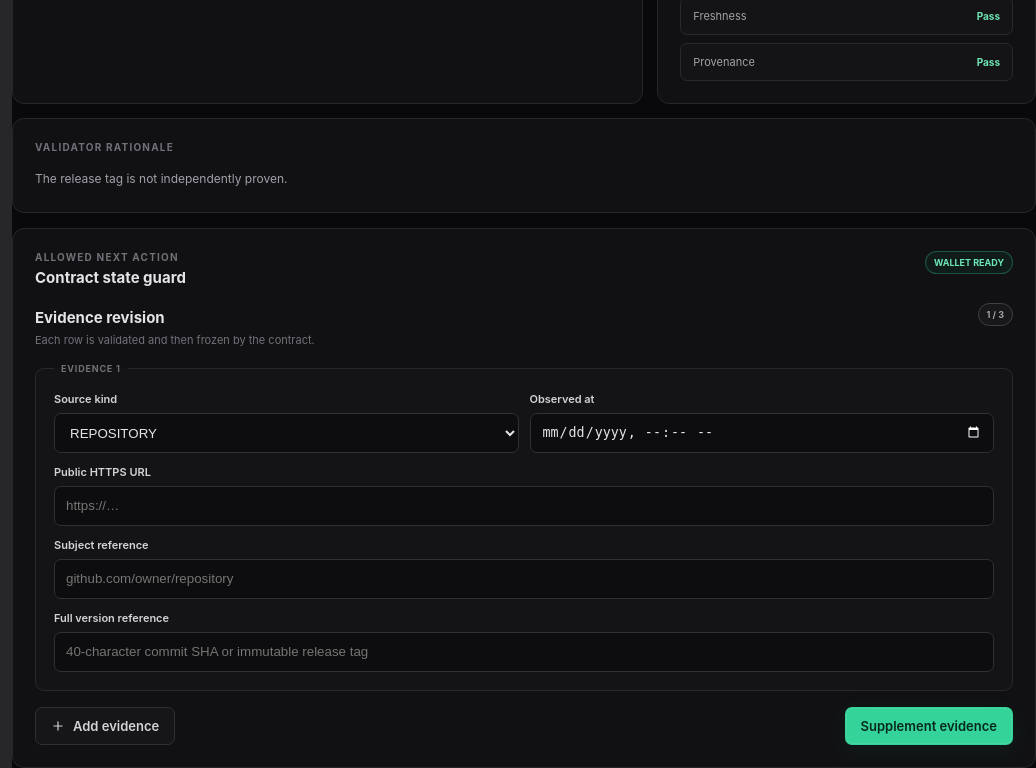
it: SubmissionDetail › routes a confirmed supplement to the new submission digest
(page scrolled)
Select "RELEASE" in the dropdown named "Evidence 1 source kind" at x=286, y=433, box [54,413,518,453]
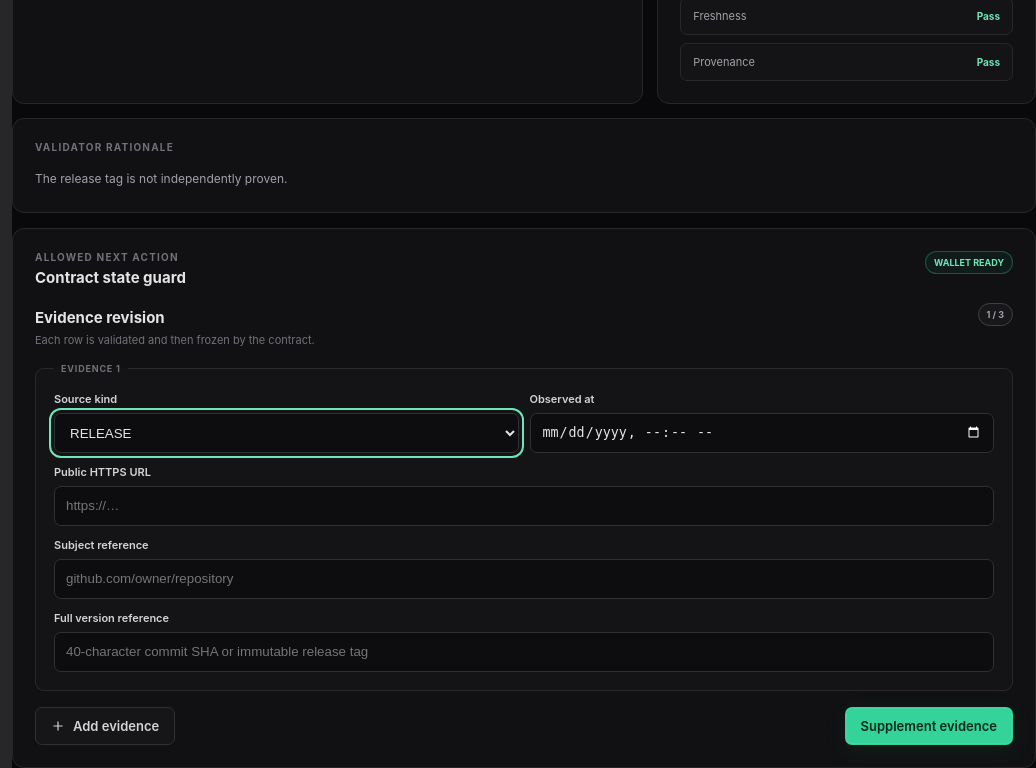
Type "https://github.com/example/compiler/releases/tag/v2" into the field named "Evidence 1 URL" at x=524, y=506, box [54,486,994,526]
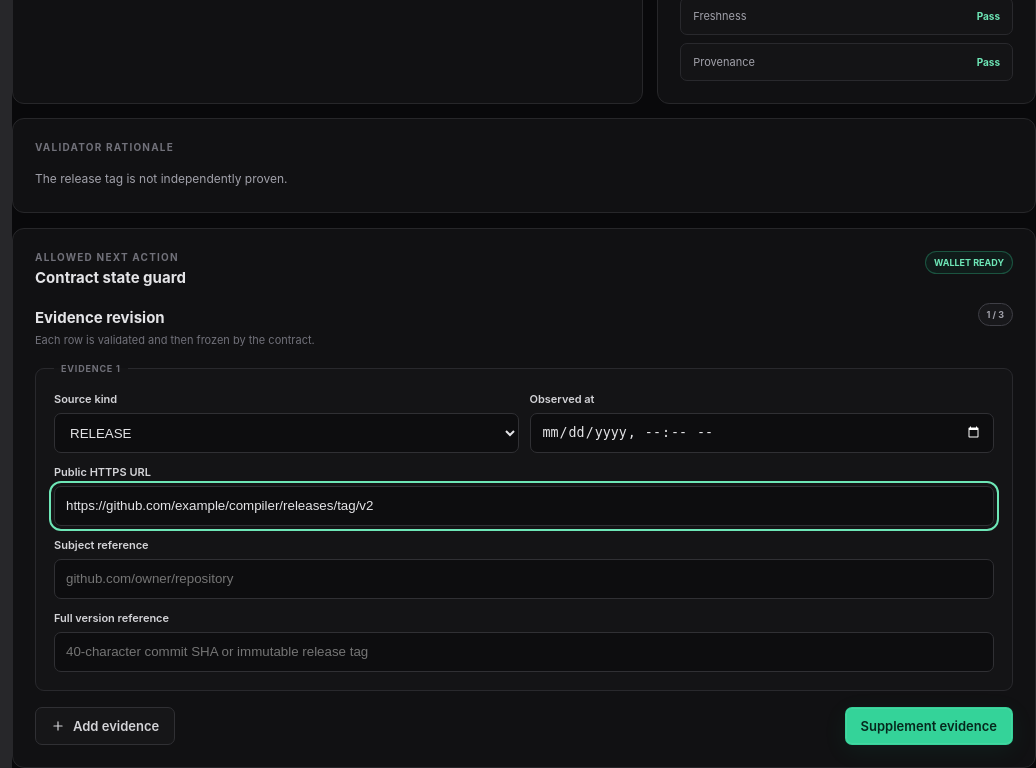
Type "github.com/example/compiler" into the field named "Evidence 1 subject" at x=524, y=579, box [54,559,994,599]
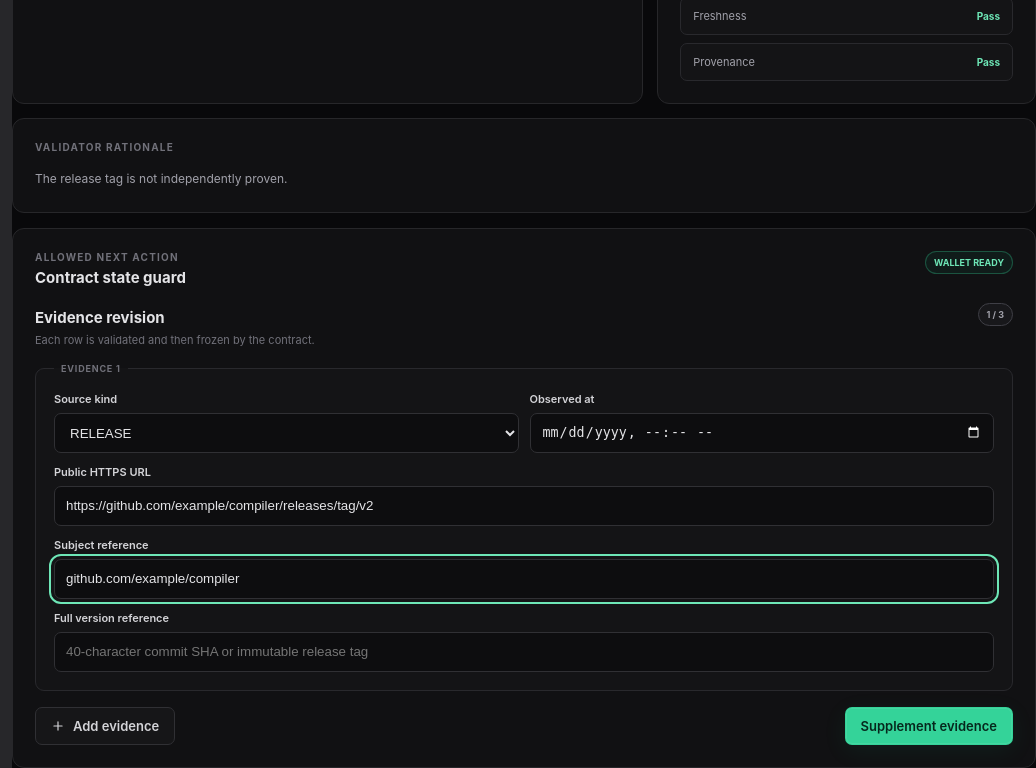
Type "v2" into the field named "Evidence 1 version" at x=524, y=652, box [54,632,994,672]
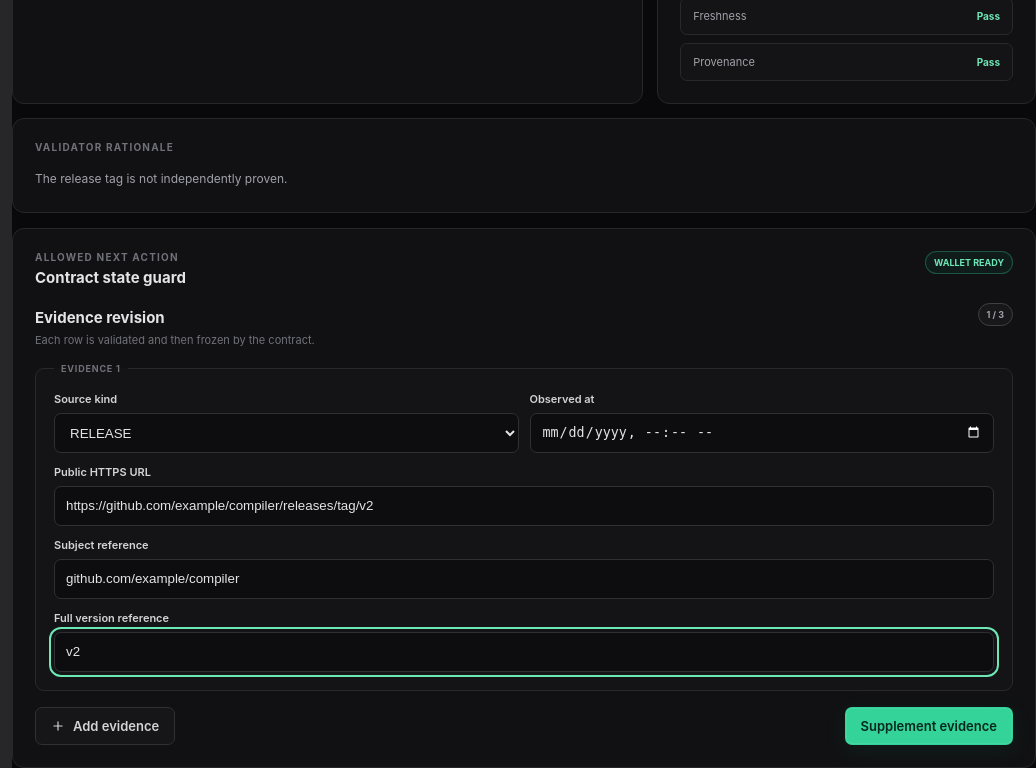
Type "2027-01-15T15:01" into the field named "Evidence 1 observed at" at x=762, y=433, box [530,413,994,453]
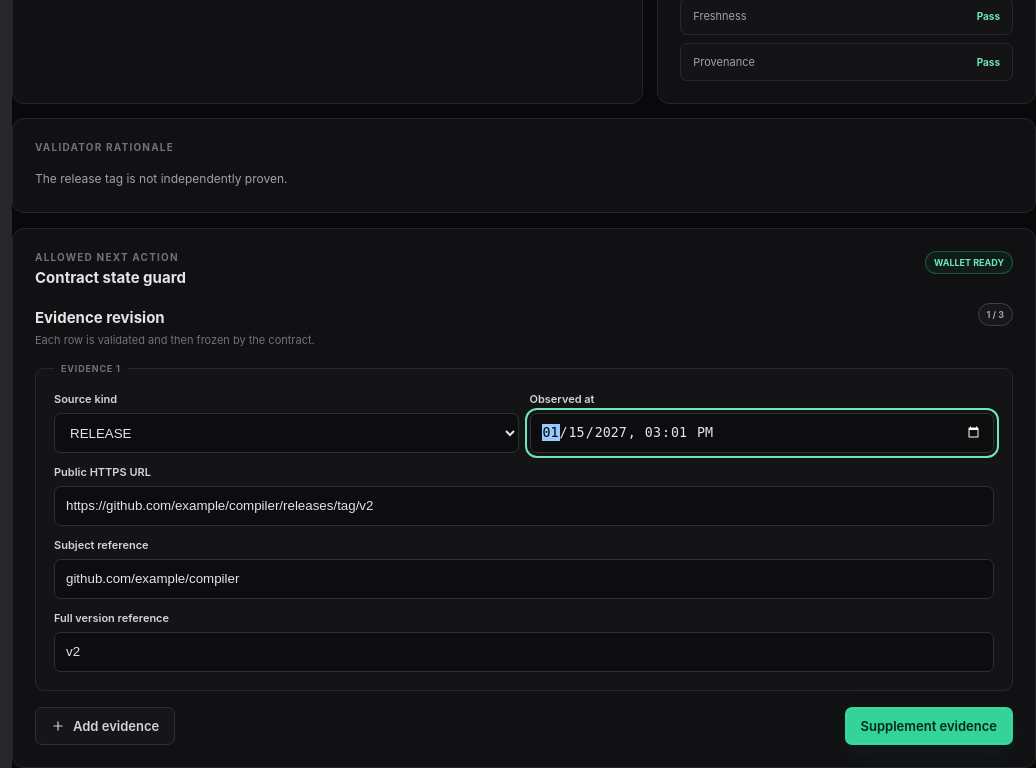
Click the button "Supplement evidence" at x=929, y=726, box [845,707,1013,745]
(page scrolled)
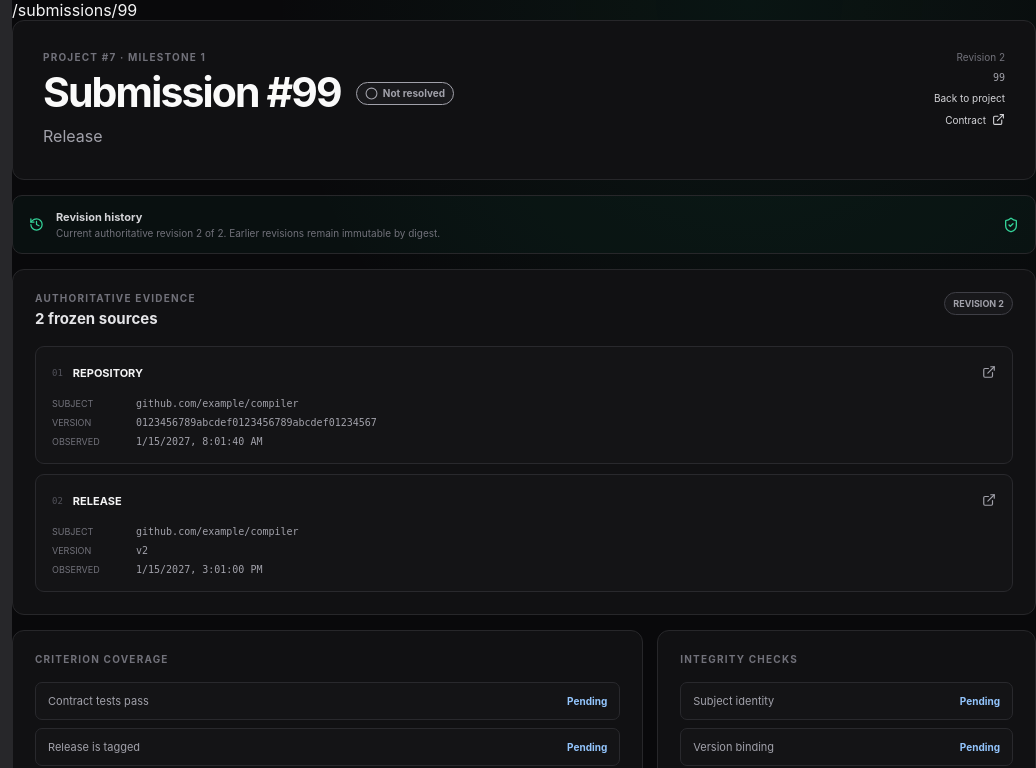
Check: the text with test id "location" reads "/submissions/99", box [12,0,137,20]
